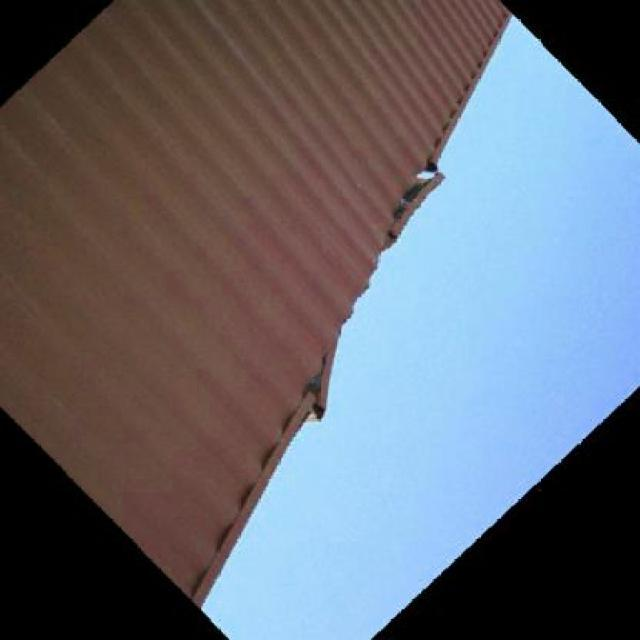hole: (291, 305, 363, 453), (380, 145, 458, 245)
